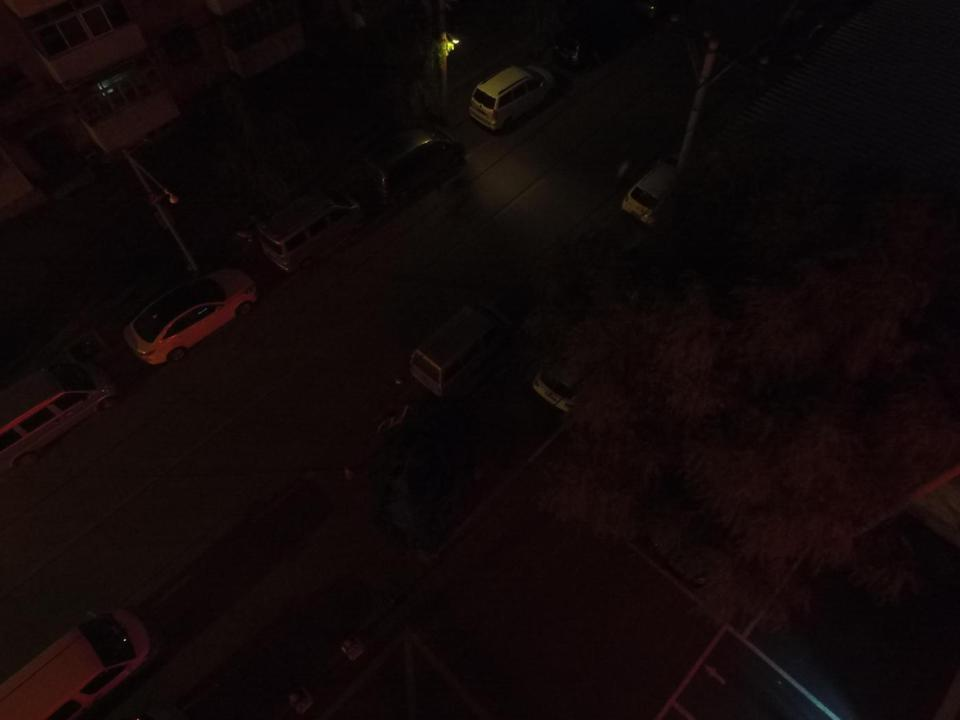car: (644, 409, 812, 583), (0, 607, 157, 720), (122, 268, 257, 366), (2, 362, 115, 476), (532, 320, 635, 414), (620, 152, 699, 229), (554, 27, 624, 69)
van: (409, 303, 512, 397), (259, 192, 363, 273), (361, 126, 465, 202), (468, 62, 554, 131)
